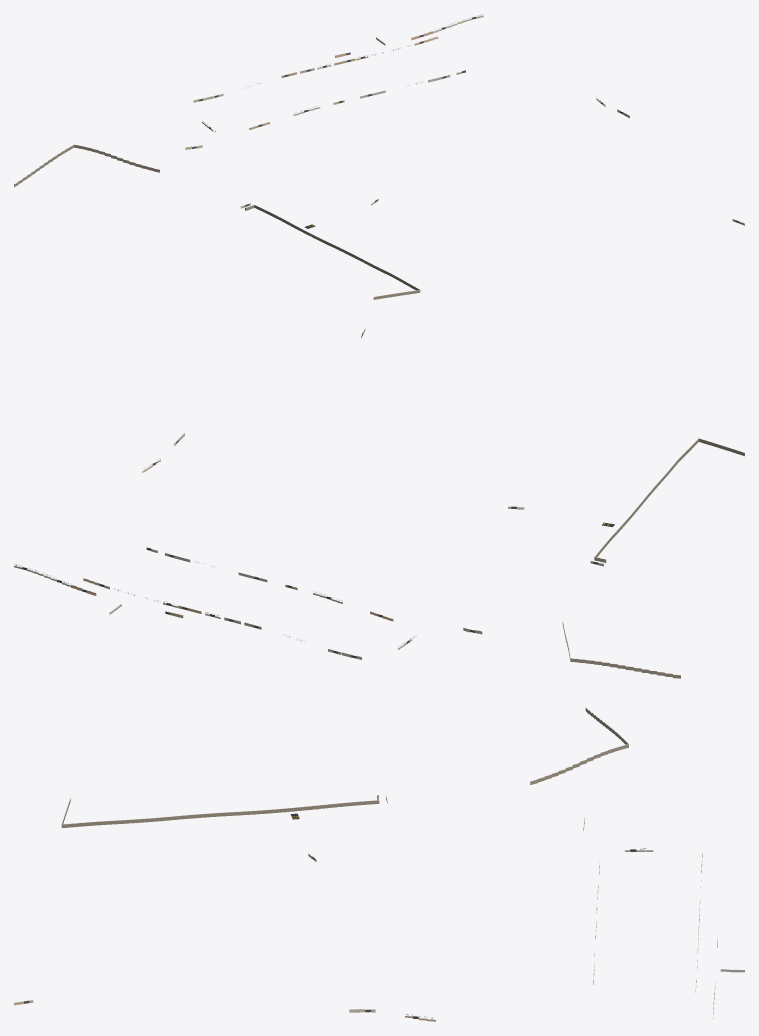
The picture shows the model from 3 angles, top to bottom: view 1: azimuth 30°, elevation 25°; view 2: azimuth 150°, elevation 25°; view 3: azimuth 270°, elevation 25°; orthographic projection. The views are drawn at different scales.
Visible parts, largest first — view 1: nd_st_m15_m5_lod0; view 2: nd_st_m15_m5_lod0; view 3: nd_st_m15_m5_lod0.
Part boxes in pixels (x1,y1,x2,y2): nd_st_m15_m5_lod0: (14, 14, 744, 299); nd_st_m15_m5_lod0: (14, 328, 744, 678); nd_st_m15_m5_lod0: (14, 707, 744, 1021).
Size of what is drawn, in the model's own units: 426 by 17.42 by 415.
